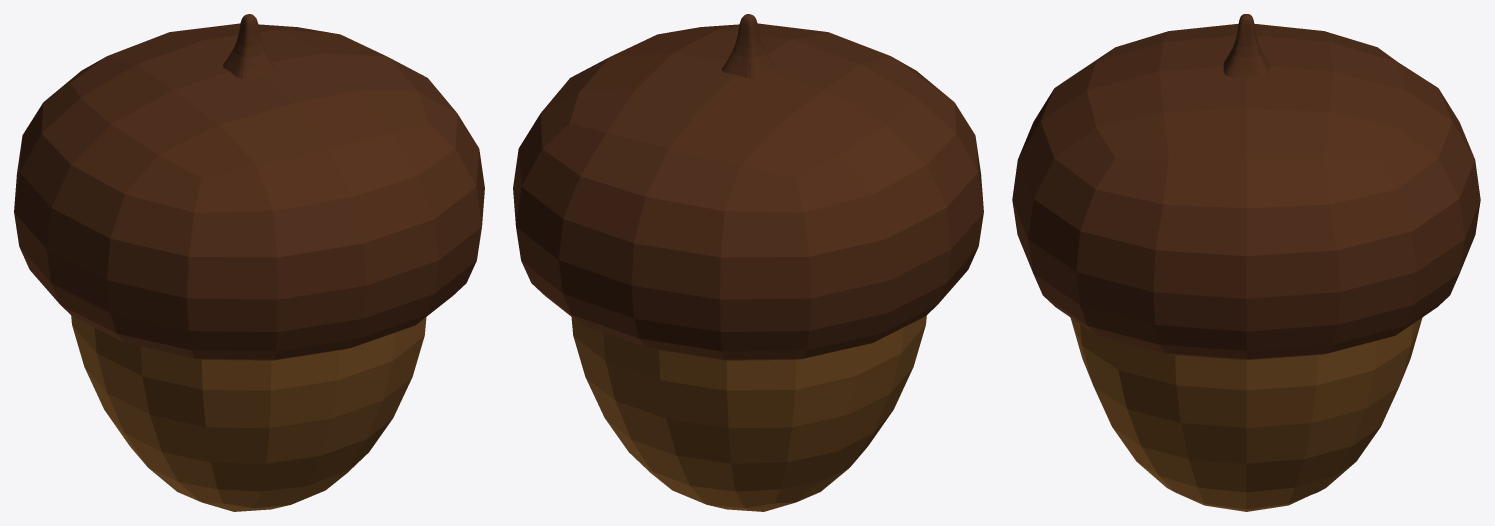
Rendered from AcornV1.fbx.
The picture shows the model from 3 angles, left to right: view 1: azimuth 30°, elevation 25°; view 2: azimuth 150°, elevation 25°; view 3: azimuth 270°, elevation 25°; orthographic projection.
Parts seen in each view (by area): view 1: Cube.001, Cube, Cube.002; view 2: Cube.001, Cube, Cube.002; view 3: Cube.001, Cube, Cube.002.
Boxes of the visible parts, bbox=[...] form: Cube.001: bbox=[14, 23, 484, 360]; Cube: bbox=[71, 315, 426, 511]; Cube.002: bbox=[223, 14, 275, 78]; Cube.001: bbox=[513, 23, 983, 360]; Cube: bbox=[571, 315, 926, 511]; Cube.002: bbox=[721, 14, 775, 78]; Cube.001: bbox=[1012, 23, 1480, 360]; Cube: bbox=[1070, 317, 1422, 511]; Cube.002: bbox=[1223, 14, 1269, 76].
Bounding box in the file's own units: 267 × 305 × 267.
